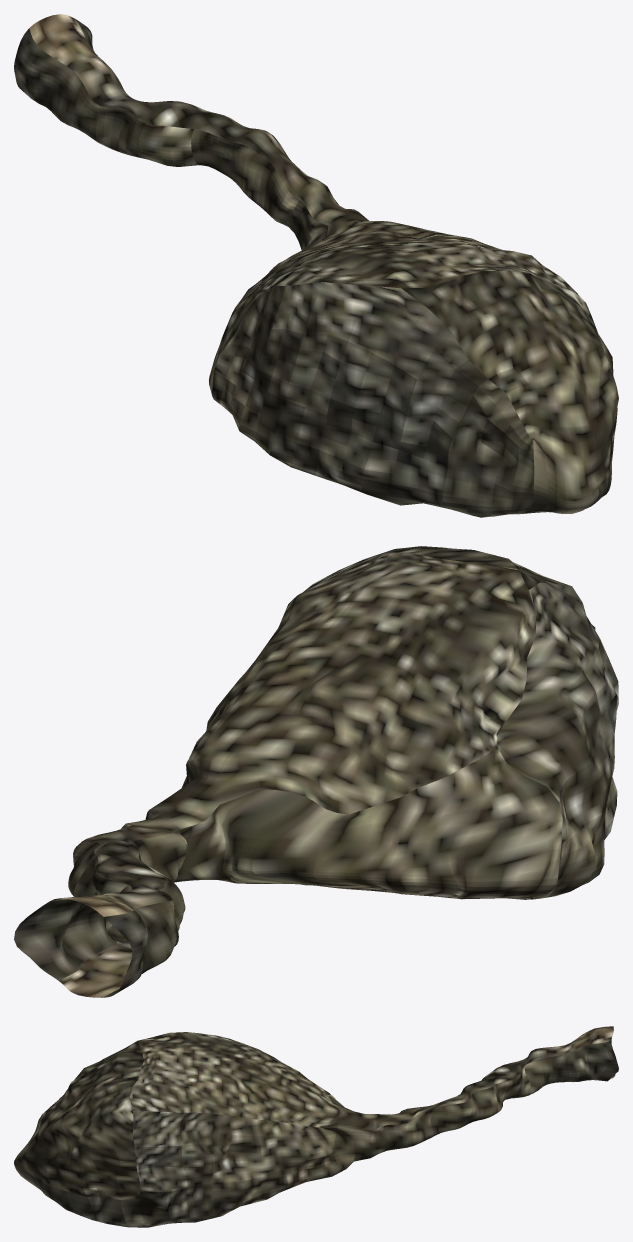
Rendered from Cave.fbx.
3 renders of one model, top to bottom at view 1: azimuth 30°, elevation 25°; view 2: azimuth 150°, elevation 25°; view 3: azimuth 270°, elevation 25°, orthographic. The views are drawn at different scales.
Visible parts, largest first — view 1: Cube; view 2: Cube; view 3: Cube.
Boxes of the visible parts, x1,y1,x2,y2 form: Cube: (14, 14, 618, 517); Cube: (14, 546, 618, 997); Cube: (14, 1026, 618, 1227).
Size of the model in its own units: 1363 by 1003 by 3616.
